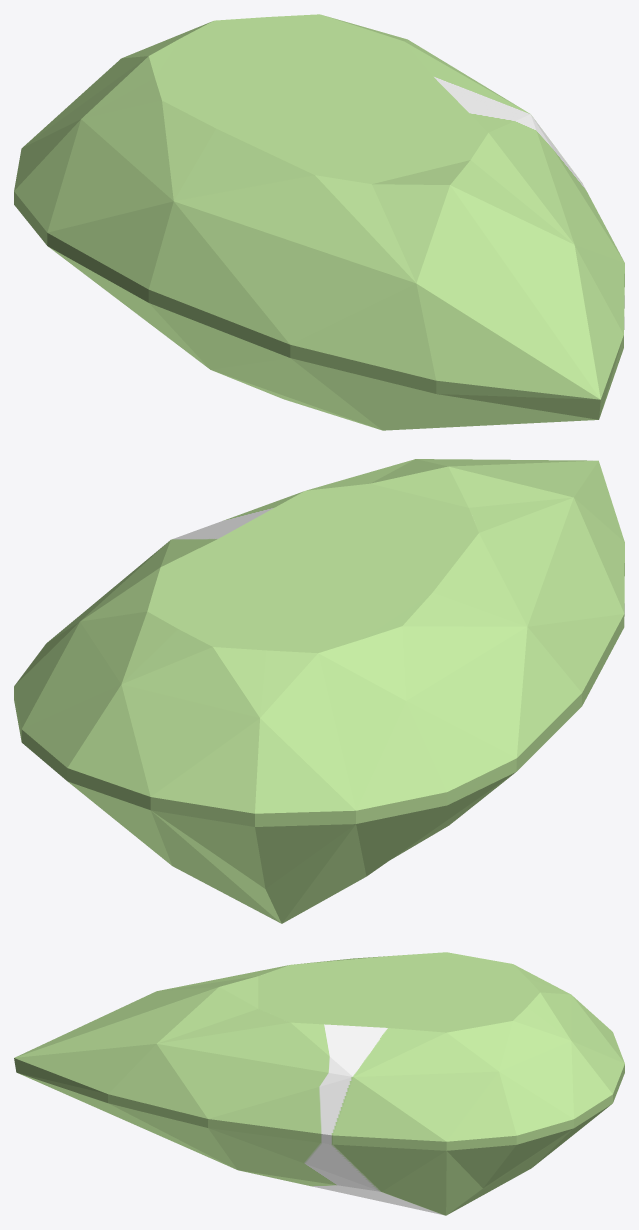
File: august.fbx
3 renders of one model, top to bottom at view 1: azimuth 30°, elevation 25°; view 2: azimuth 150°, elevation 25°; view 3: azimuth 270°, elevation 25°, orthographic. The views are drawn at different scales.
Visible parts, largest first — view 1: peridot; view 2: peridot; view 3: peridot.
Part boxes in pixels (x1,y1,x2,y2): peridot: [14, 14, 624, 430]; peridot: [14, 459, 624, 923]; peridot: [14, 952, 624, 1215].
Bounding box in the file's own units: 856 × 583 × 1411.
Materials: 1 (1 with a texture image).
